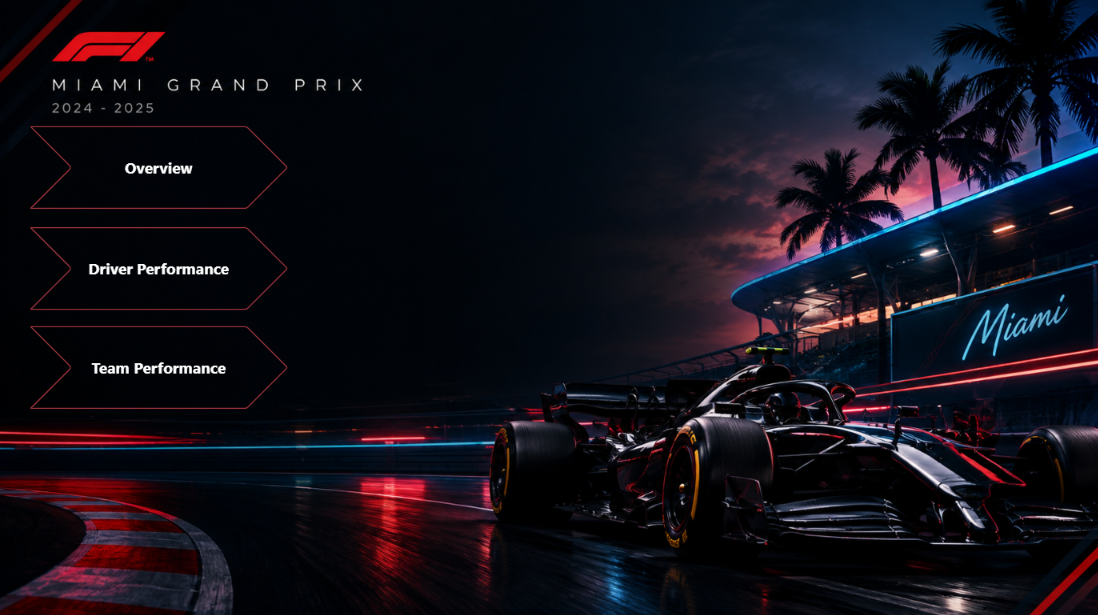

What the dashboard file says about the page in this screenshot:
{"tool":"powerbi","page":{"name":"Home","canvas":[1920,1080],"ordinal":0},"visuals":[{"type":"actionButton","box":[52.3,219.8,451.7,144.8],"z":0},{"type":"actionButton","box":[52.3,395.9,451.7,144.8],"z":1000},{"type":"actionButton","box":[52.3,568.6,451.7,144.8],"z":2000},{"type":"actionButton","box":[537.2,293,451.7,144.8],"z":3000},{"type":"actionButton","box":[537.2,495.4,451.7,144.8],"z":4000}]}

Visuals, with their boxes in screenshot pixels (x1, y1, x2, y2), scaled from the page's 1920x1080 canvas onto the 1098x615 screenshot:
actionButton: (30, 125, 288, 208)
actionButton: (30, 225, 288, 308)
actionButton: (30, 324, 288, 406)
actionButton: (307, 167, 566, 249)
actionButton: (307, 282, 566, 365)
